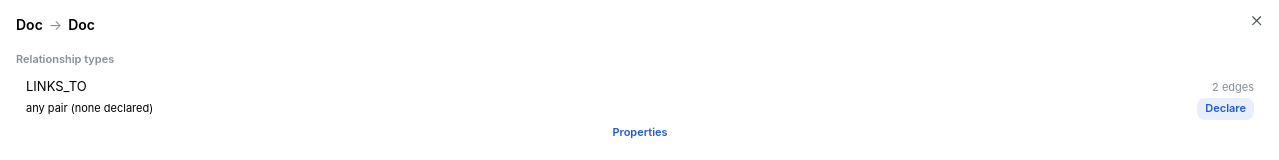
the diagram's side panel of a managed schema › locks once a write is refused because a program now manages the schema
Step 1. Click the button "Declare" → (1226, 109), box top-left (1197, 98), bottom-right (1254, 120)
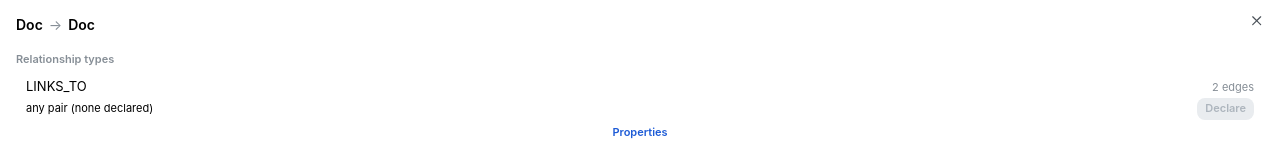
Check: the button "Declare" is disabled, box top-left (1197, 98), bottom-right (1254, 120)
